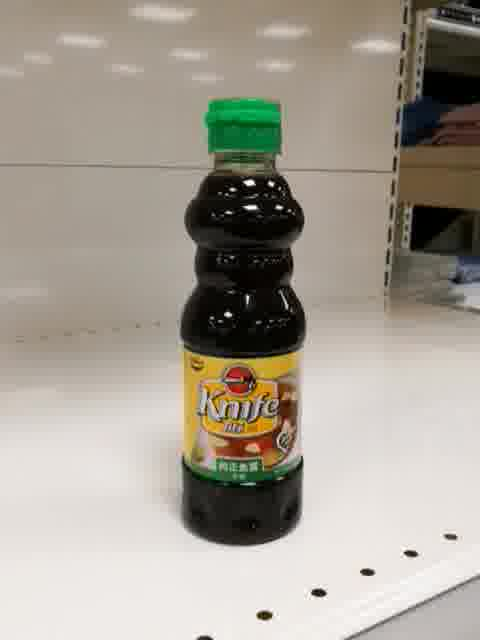cookingoil: (178, 96, 308, 546)
